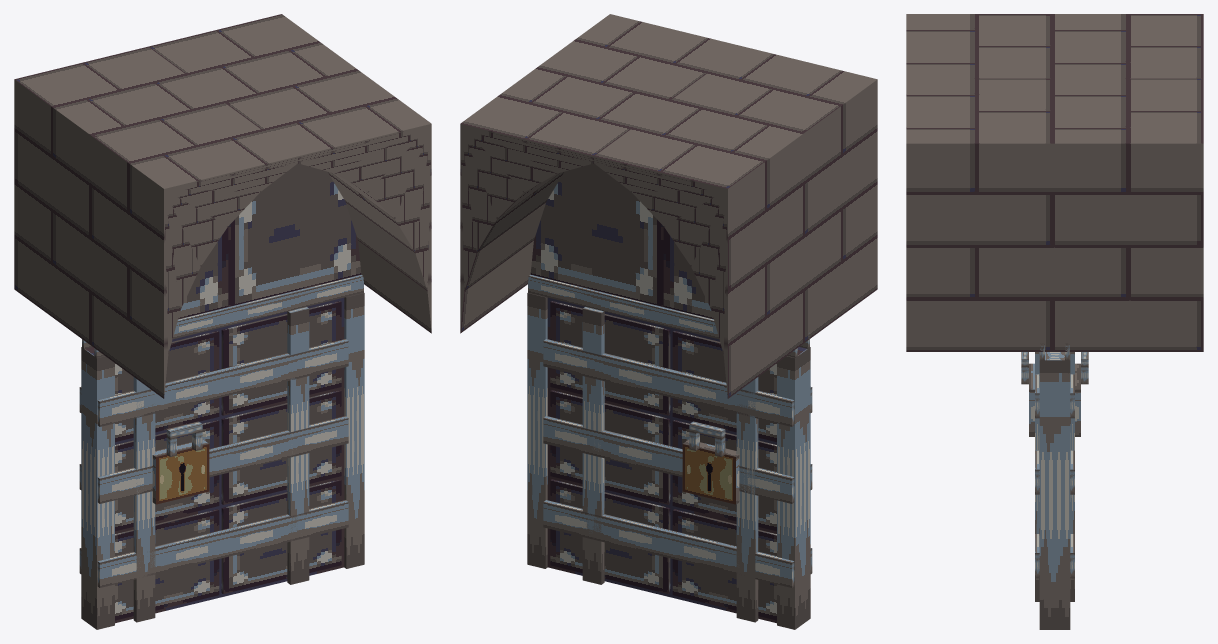
File: door_locked.glb
3 renders of one model, left to right at view 1: azimuth 30°, elevation 25°; view 2: azimuth 150°, elevation 25°; view 3: azimuth 270°, elevation 25°, orthographic.
Visible parts, largest first — view 1: portal, leaf, lock; view 2: portal, leaf, lock; view 3: portal, leaf, lock.
Part boxes in pixels (left/top/right/bottom): portal: left=14, top=14, right=431, bottom=629; leaf: left=79, top=297, right=348, bottom=623; lock: left=152, top=421, right=209, bottom=504; portal: left=460, top=14, right=877, bottom=629; leaf: left=543, top=297, right=812, bottom=623; lock: left=682, top=421, right=739, bottom=504; portal: left=906, top=14, right=1203, bottom=629; leaf: left=1035, top=352, right=1074, bottom=601; lock: left=1021, top=352, right=1088, bottom=436.
Bounding box in the file's own units: 2 × 3.5 × 1.94.
Materials: 1 (1 with a texture image).
